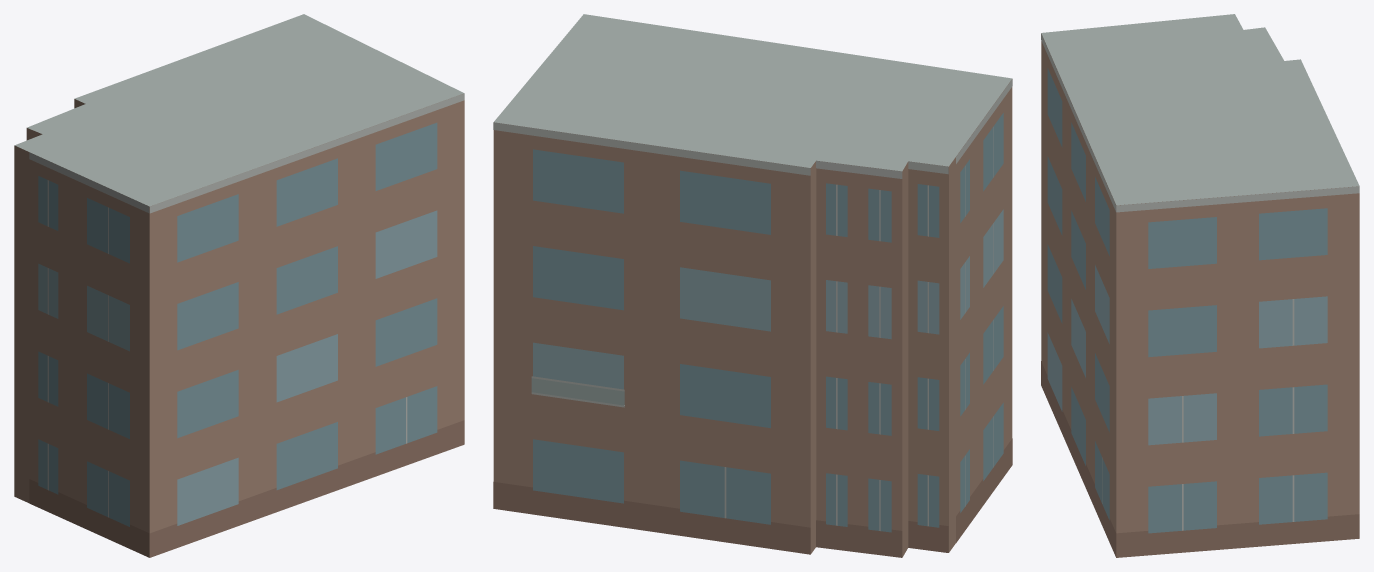
File: survey-upis-32748010.glb
3 views of the same model, side by side, from view 1: azimuth 30°, elevation 25°; view 2: azimuth 150°, elevation 25°; view 3: azimuth 270°, elevation 25° (orthographic). The views are drawn at different scales.
Parts seen in each view (by area): view 1: survey-upis-32748010.tmp; view 2: survey-upis-32748010.tmp; view 3: survey-upis-32748010.tmp.
Boxes of the visible parts, x1,y1,x2,y2 form: survey-upis-32748010.tmp: (14,14,464,557); survey-upis-32748010.tmp: (493,14,1012,557); survey-upis-32748010.tmp: (1041,14,1359,557).
Bounding box in the file's own units: 14.22 × 12.2 × 10.
